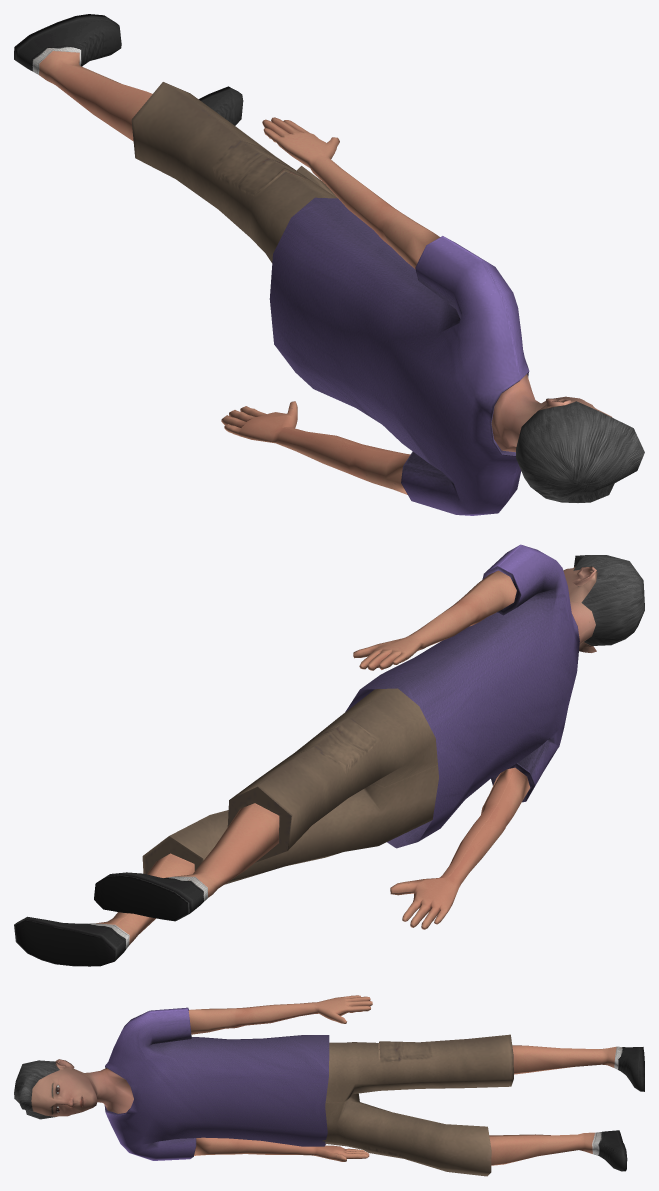
The model's file is walk.obj.
3 renders of one model, top to bottom at view 1: azimuth 30°, elevation 25°; view 2: azimuth 150°, elevation 25°; view 3: azimuth 270°, elevation 25°, orthographic. The views are drawn at different scales.
Size of the model in its own units: 0.4686 by 0.5306 by 1.78.
1 material, 1 textured.
